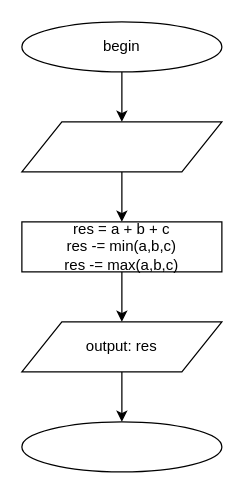
This 244x494 diagram has some shape labels left out. The shapes that lost their labels are listed below. From the top down, each one's box as (x1, y1, x2, y2) in pixels, then its label:
(21, 121, 222, 172): input: a, b, c
(21, 421, 222, 472): end
